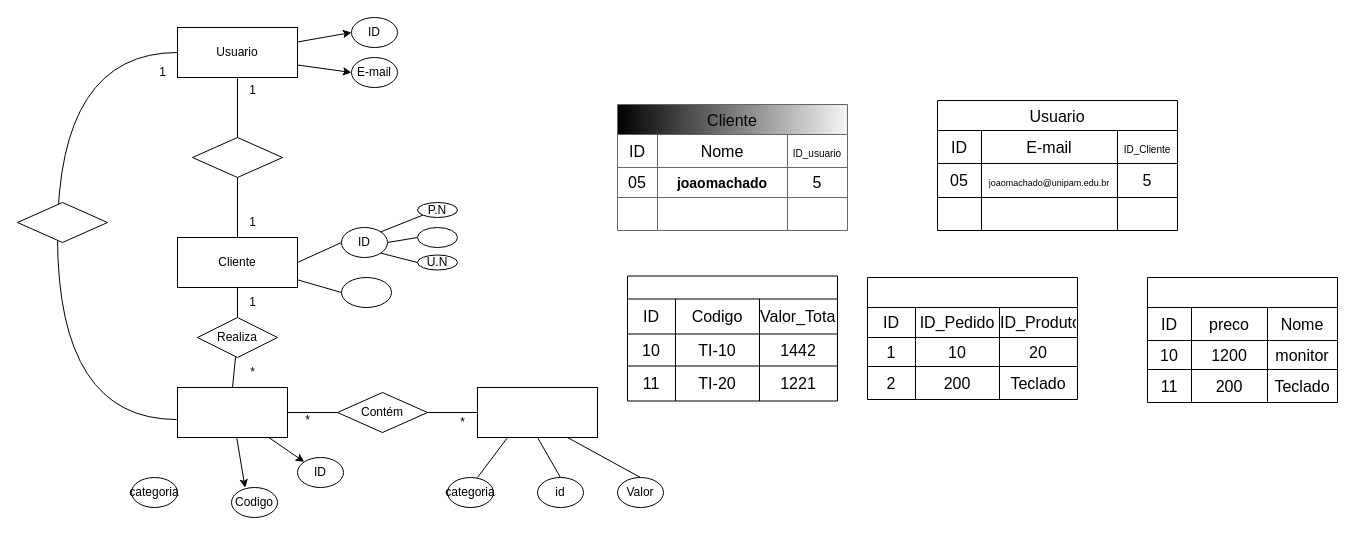
The diagram is 1355 pixels wide and 535 high, and some of its shapes have lost their labels. The box of each missing label's shape, as (x1, y1, x2, y2) in pixels:
Cadrastra: (192, 136, 282, 178)
Cpf: (340, 276, 392, 308)
Faz: (16, 202, 108, 242)
N.M: (416, 226, 458, 248)
Pedido: (176, 386, 288, 438)
Pedidos: (626, 275, 838, 401)
Produto: (476, 386, 598, 438)
Produto_Pedido: (866, 276, 1078, 400)
Produtos: (1146, 276, 1338, 402)
